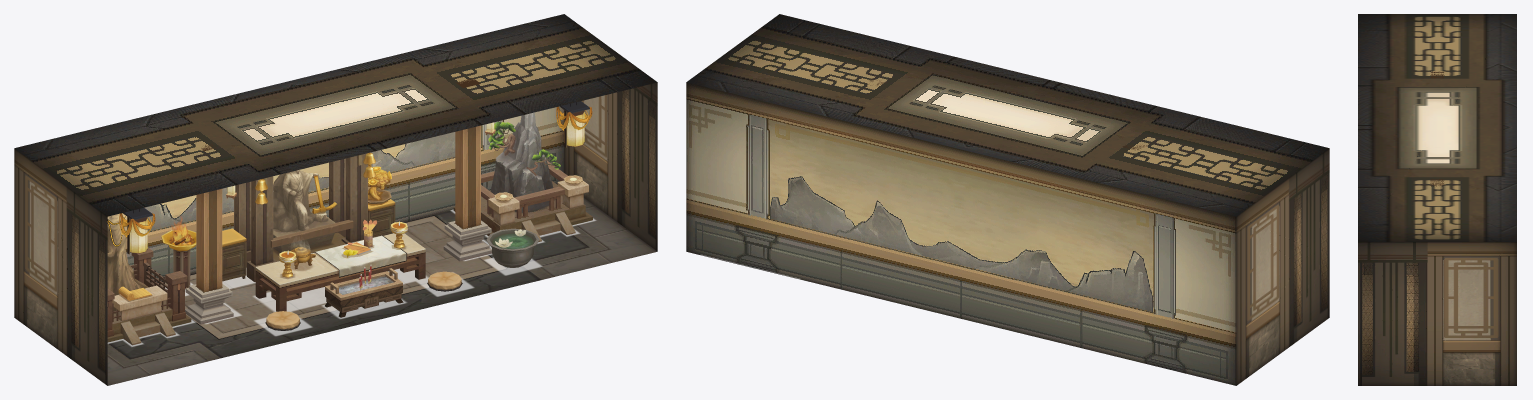
The model's file is msVillage.glb.
3 views of the same model, side by side, from view 1: azimuth 30°, elevation 25°; view 2: azimuth 150°, elevation 25°; view 3: azimuth 270°, elevation 25° (orthographic). The views are drawn at different scales.
Parts seen in each view (by area): view 1: ROOM_room, ROOM_floor, furni_msVillage_ygTable_01, furni_msVillage_godTable_01, furni_msVillage_stonePallet_01, furni_msVillage_dtTable_01, furni_msVillage_feteTable_01, furni_msVillage_pillar_01, furni_msVillage_pillar_01.001, furni_msVillage_ygTable_02, furni_msVillage_fetePot_01, furni_msVillage_feteTable_03 (+13 smaller); view 2: ROOM_room, ROOM_LDoor; view 3: ROOM_room, ROOM_RDoor.
Part boxes in pixels (left/top/right/bottom): ROOM_room: left=14, top=14, right=657, bottom=385; ROOM_floor: left=107, top=198, right=657, bottom=385; furni_msVillage_ygTable_01: left=222, top=152, right=395, bottom=281; furni_msVillage_godTable_01: left=453, top=112, right=592, bottom=241; furni_msVillage_stonePallet_01: left=156, top=215, right=506, bottom=339; furni_msVillage_dtTable_01: left=107, top=213, right=191, bottom=345; furni_msVillage_feteTable_01: left=255, top=222, right=425, bottom=311; furni_msVillage_pillar_01: left=185, top=143, right=236, bottom=307; furni_msVillage_pillar_01.001: left=444, top=78, right=495, bottom=244; furni_msVillage_ygTable_02: left=273, top=166, right=391, bottom=231; furni_msVillage_fetePot_01: left=325, top=264, right=403, bottom=317; furni_msVillage_feteTable_03: left=314, top=235, right=406, bottom=277; ROOM_room: left=686, top=14, right=1329, bottom=385; ROOM_LDoor: left=1297, top=251, right=1315, bottom=341; ROOM_room: left=1358, top=14, right=1516, bottom=385; ROOM_RDoor: left=1381, top=320, right=1414, bottom=385.
Bounding box in the file's own units: 7.48 × 2.2 × 2.23.
Materials: 7 (7 with a texture image).
